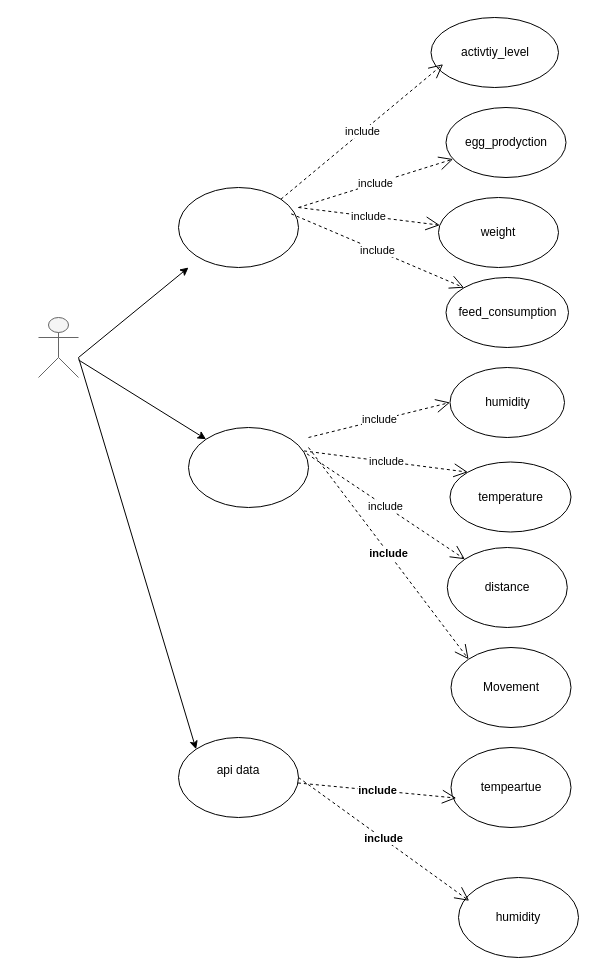
Image size: 596x975. Some labels were removed from this diagram. The centre of each missing label's shape, as x and y in pixels:
"Chicken keeper" belongs at [58,347].
"hardware data" belongs at [248,467].
"simulated generation data" belongs at [238,227].
